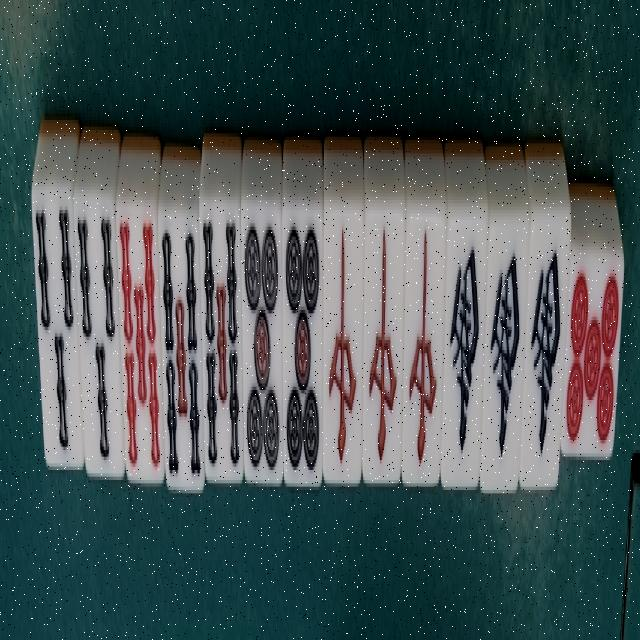bamboos_3: (27, 180, 85, 483), (74, 193, 122, 507)
bamboos_5: (118, 187, 165, 500), (198, 180, 238, 483), (163, 210, 202, 513)
circles_5: (556, 230, 627, 473), (282, 183, 322, 487), (240, 200, 279, 503)
red: (360, 193, 400, 497), (320, 193, 359, 497), (403, 197, 442, 500)
south: (476, 207, 530, 520), (522, 227, 576, 510), (443, 193, 482, 497)
